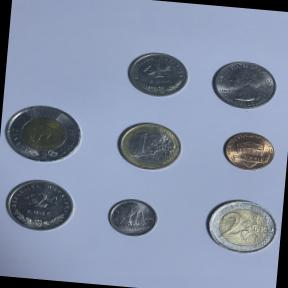coin: (0, 99, 88, 168), (200, 194, 282, 260), (0, 174, 79, 235), (206, 57, 284, 114), (112, 118, 188, 176), (102, 194, 164, 242), (218, 128, 279, 174)
